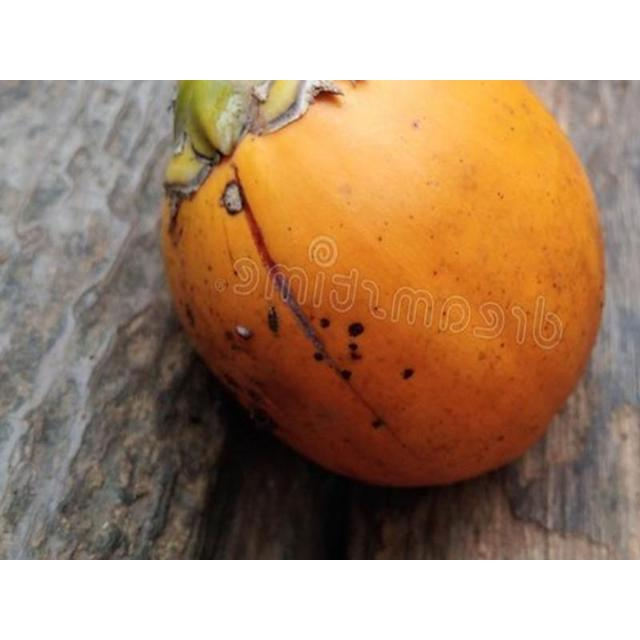good: (161, 80, 603, 486)
